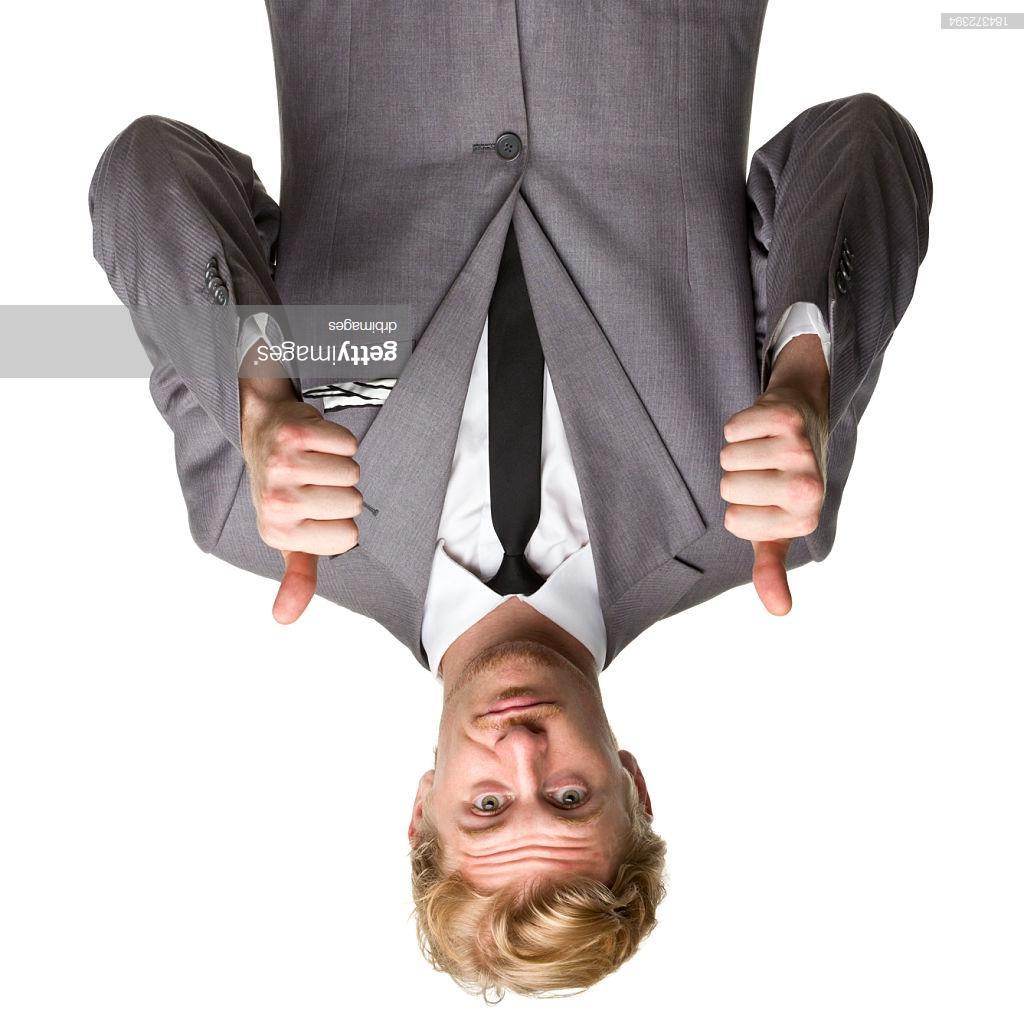thumbsdown: (718, 399, 828, 618), (257, 413, 363, 626)
